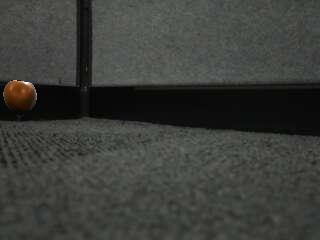Potato: (2, 77, 39, 114)
